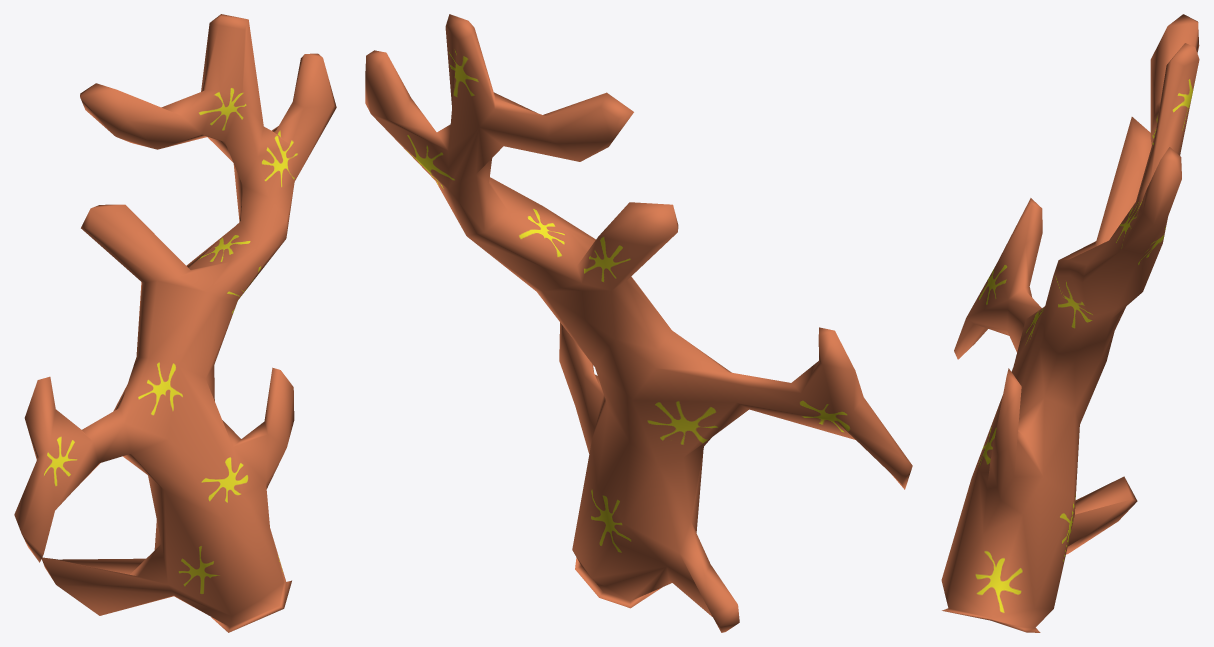
Rendered from object_57_lev3.glb.
3 renders of one model, left to right at view 1: azimuth 30°, elevation 25°; view 2: azimuth 150°, elevation 25°; view 3: azimuth 270°, elevation 25°, orthographic. The views are drawn at different scales.
Visible parts, largest first — view 1: object_57_lev3; view 2: object_57_lev3; view 3: object_57_lev3.
Boxes of the visible parts, x1,y1,x2,y2 form: object_57_lev3: (14,14,336,632); object_57_lev3: (365,14,912,632); object_57_lev3: (941,14,1199,632).
Size of the model in its own units: 2.46 by 3.19 by 1.19.
Materials: 1 (1 with a texture image).
